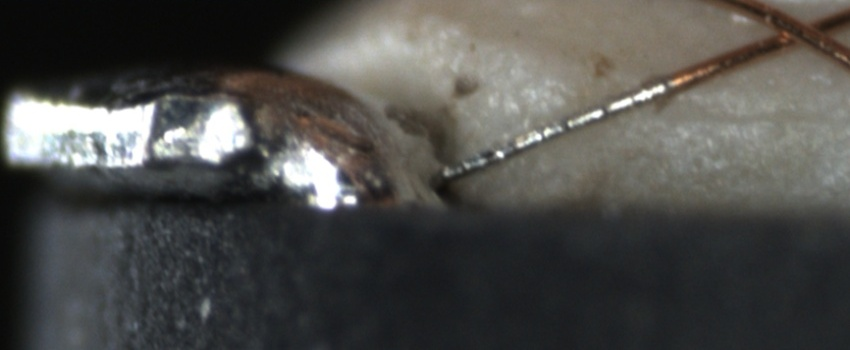CL: (754, 4, 841, 54)
DL: (611, 85, 850, 149)
TS: (443, 76, 674, 180)
